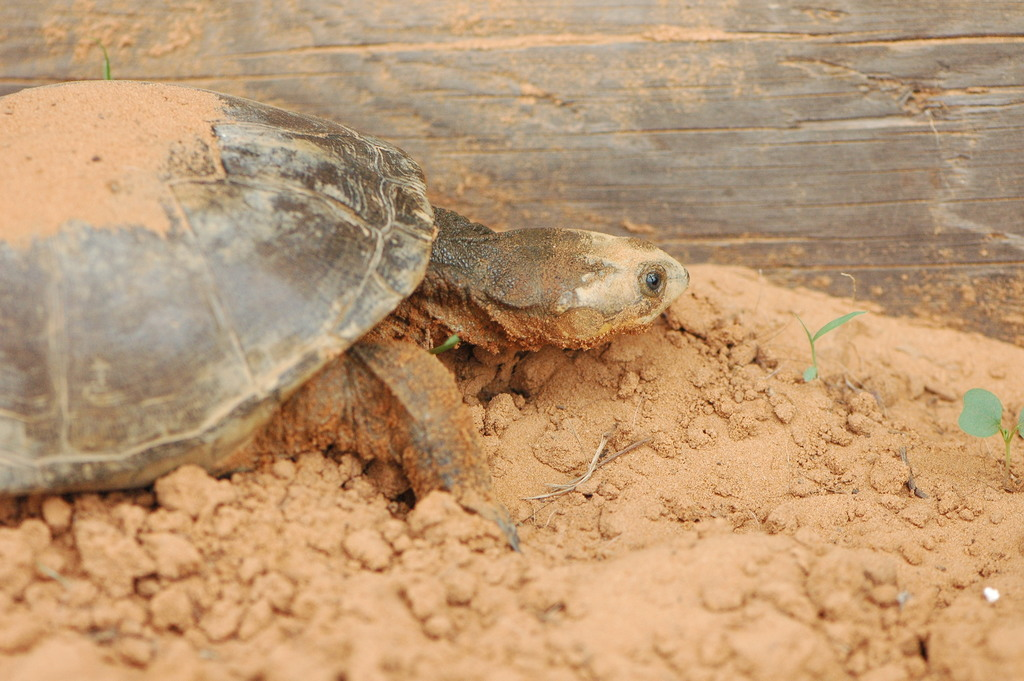Sea turtles: (0, 76, 682, 552)
